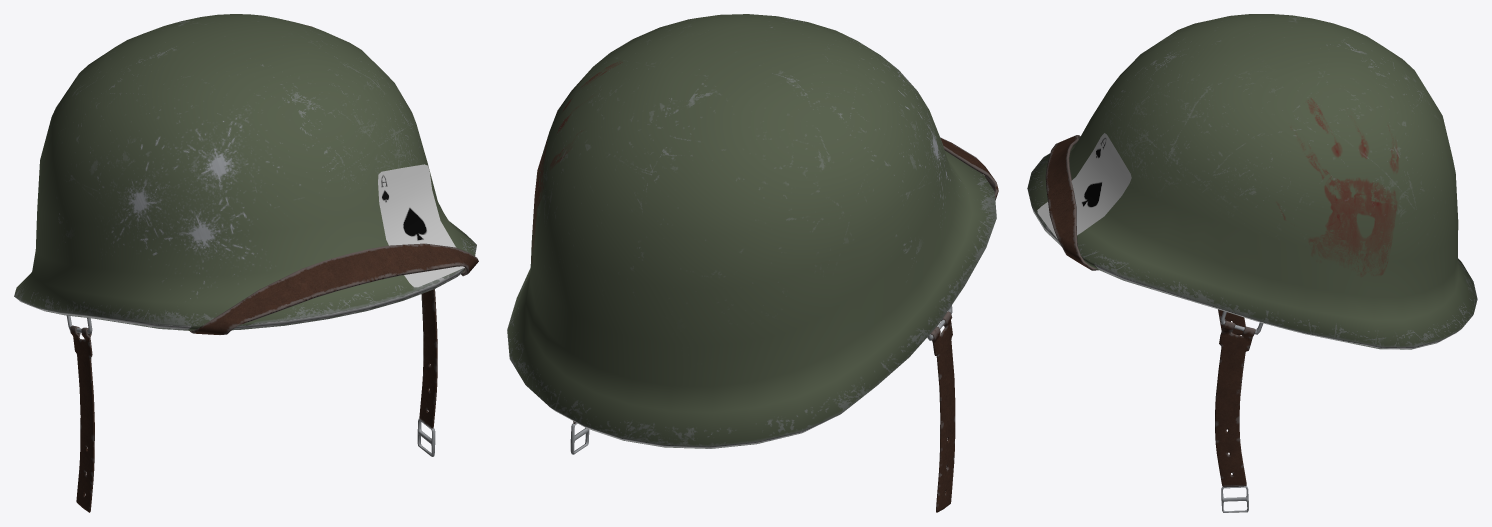
File: m1_helmet.fbx
3 renders of one model, left to right at view 1: azimuth 30°, elevation 25°; view 2: azimuth 150°, elevation 25°; view 3: azimuth 270°, elevation 25°, orthographic. The views are drawn at different scales.
Visible parts, largest first — view 1: Sphere.004; view 2: Sphere.004; view 3: Sphere.004.
Boxes of the visible parts, <box> form: Sphere.004: <box>14,14,478,512</box>; Sphere.004: <box>507,14,998,512</box>; Sphere.004: <box>1027,14,1477,512</box>.
Bounding box in the file's own units: 1519 × 1748 × 1791.
